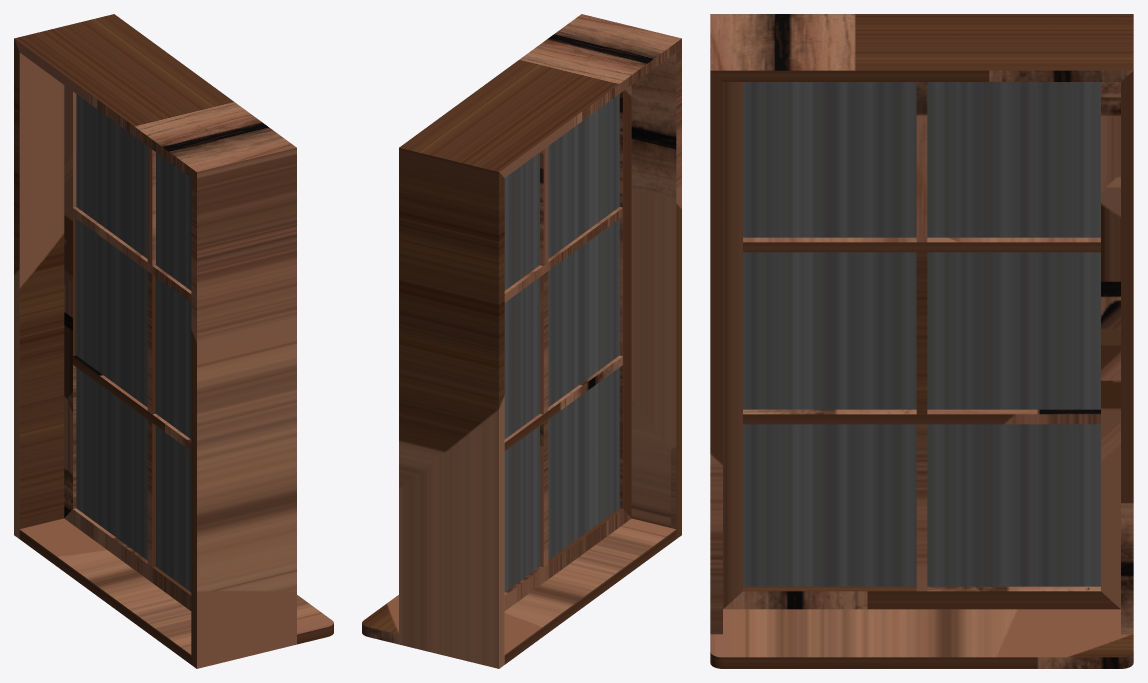
The model's file is Window_square.fbx.
3 renders of one model, left to right at view 1: azimuth 30°, elevation 25°; view 2: azimuth 150°, elevation 25°; view 3: azimuth 270°, elevation 25°, orthographic. The views are drawn at different scales.
Parts seen in each view (by area): view 1: Window_square; view 2: Window_square; view 3: Window_square.
Part boxes in pixels (x1,y1,x2,y2): Window_square: (14,14,333,668); Window_square: (362,14,681,668); Window_square: (710,14,1133,668).
Size of the model in its own units: 0.4462 by 1 by 1.5.
2 materials, 2 textured.
